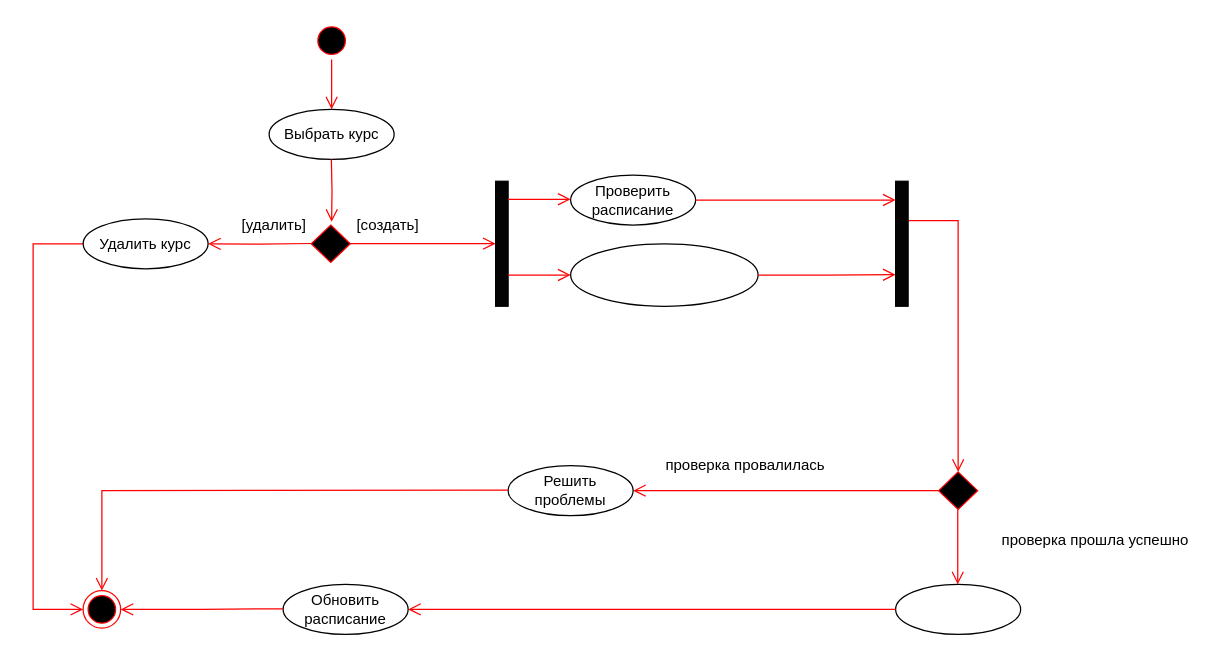
Image size: 1218x656. Some labels were removed from this diagram. The box of each missing label's shape, as (x1, y1, x2, y2) in pixels:
Проверить требования преподавателя: (569, 242, 758, 306)
Создать курс: (894, 583, 1021, 634)
